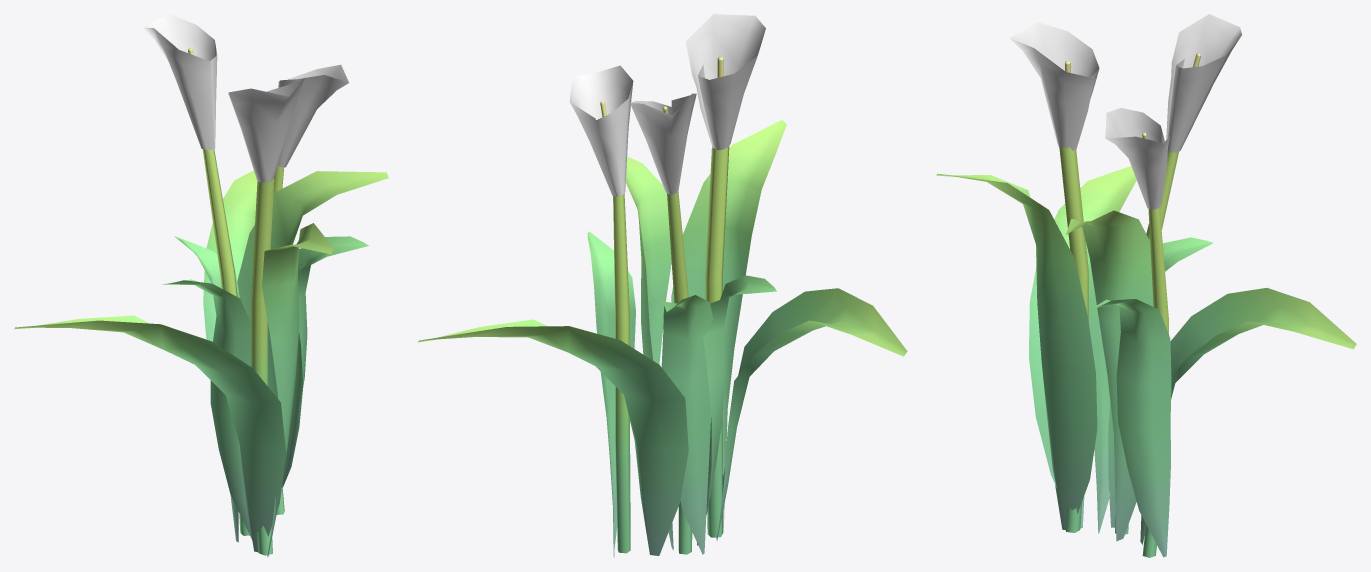
File: Flower_Base_Material_0.fbx
3 views of the same model, side by side, from view 1: azimuth 30°, elevation 25°; view 2: azimuth 150°, elevation 25°; view 3: azimuth 270°, elevation 25° (orthographic). The views are drawn at different scales.
Parts seen in each view (by area): view 1: Flower_Base_Material_0_export; view 2: Flower_Base_Material_0_export; view 3: Flower_Base_Material_0_export.
Boxes of the visible parts, bbox=[...] form: Flower_Base_Material_0_export: bbox=[14, 14, 388, 556]; Flower_Base_Material_0_export: bbox=[417, 14, 907, 557]; Flower_Base_Material_0_export: bbox=[936, 14, 1356, 557].
Bounding box in the file's own units: 2.19 × 2.78 × 2.14.
